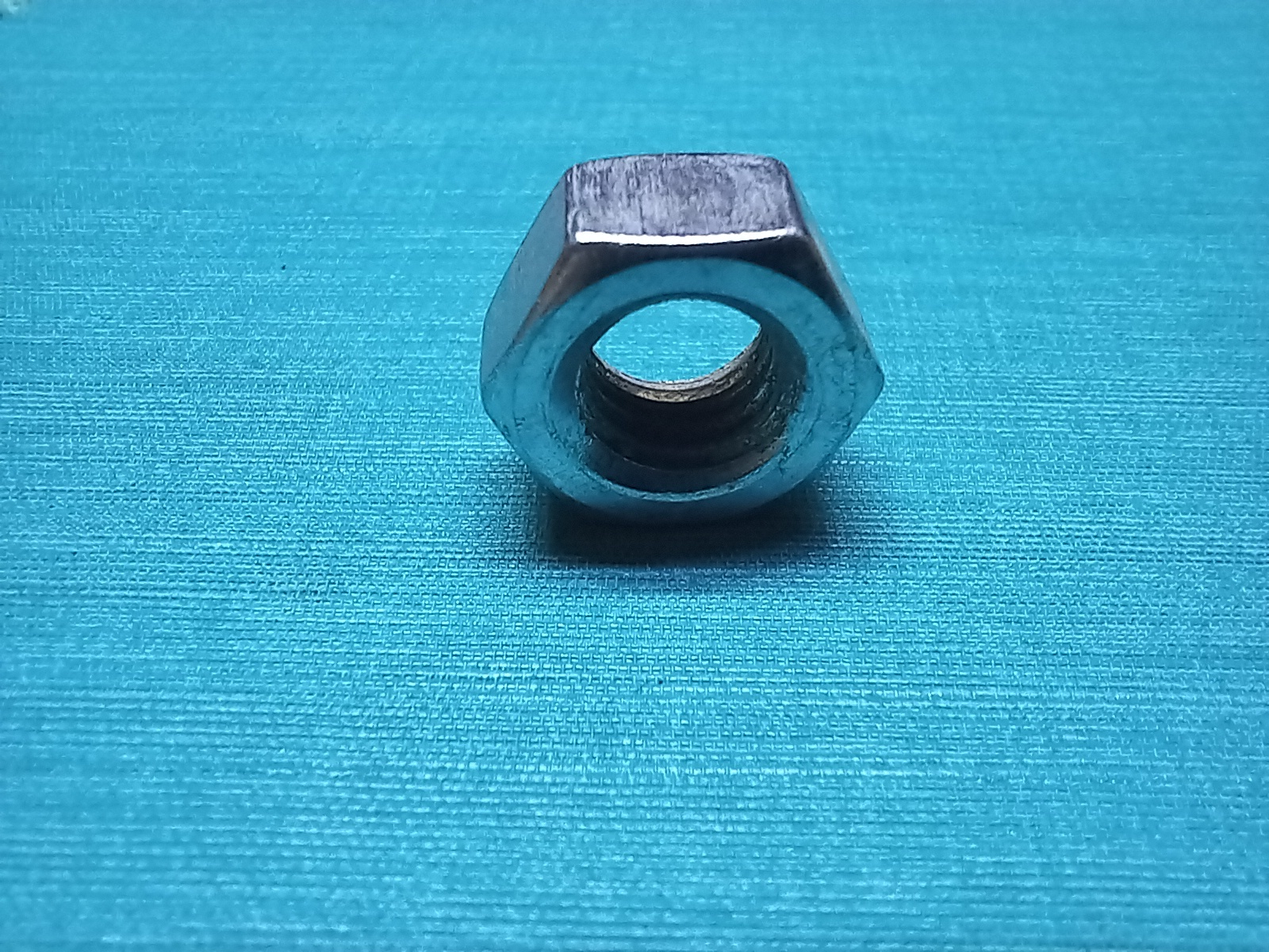nut: (480, 150, 884, 601)
